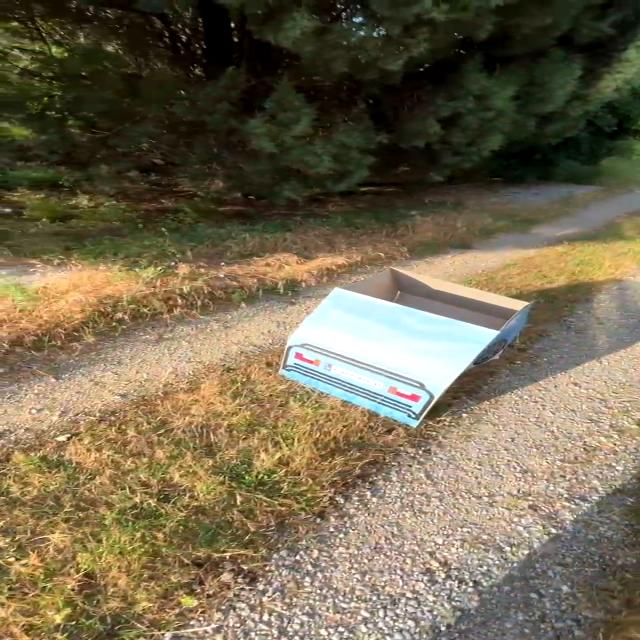blue_car: (240, 245, 562, 456)
